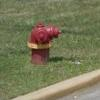Hydrant: (21, 15, 71, 67)
